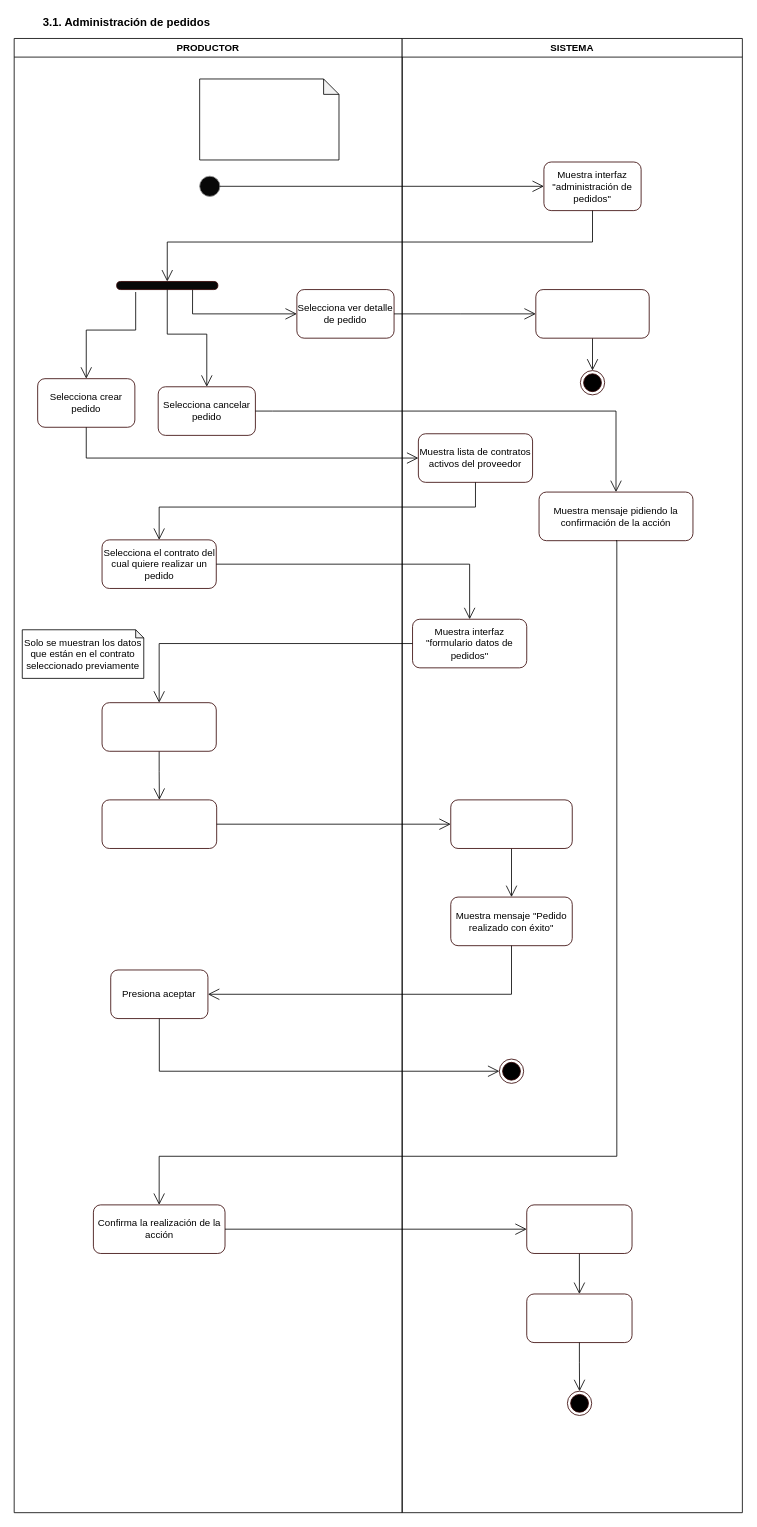
Image size: 757x1527. Some labels were removed from this diagram. Here are the shapes that lost their labels. From the top down, the centre of each, then its label:
At [269,119]: "Este flujo se inicia cuando el productor selecciona lista de pedidos".
At [592,313]: "Muestra los detalles del pedido seleccionado".
At [158,726]: "Selecciona datos".
At [159,823]: "Presiona enviar pedido".
At [511,823]: "Envía una petición de pedido al proveedor respectivo".
At [579,1228]: "Cancela el pedido respectivo".
At [579,1318]: "Actualiza el estado del pedido en el proveedor".
